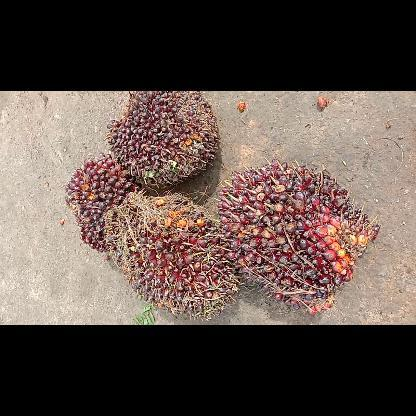Kurang masak: (214, 158, 378, 314), (110, 191, 240, 319), (104, 90, 220, 188), (64, 153, 140, 251)
